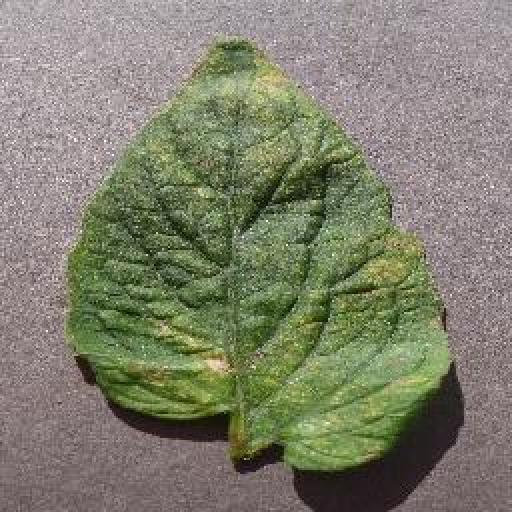disease_tomato: (67, 37, 453, 471)
